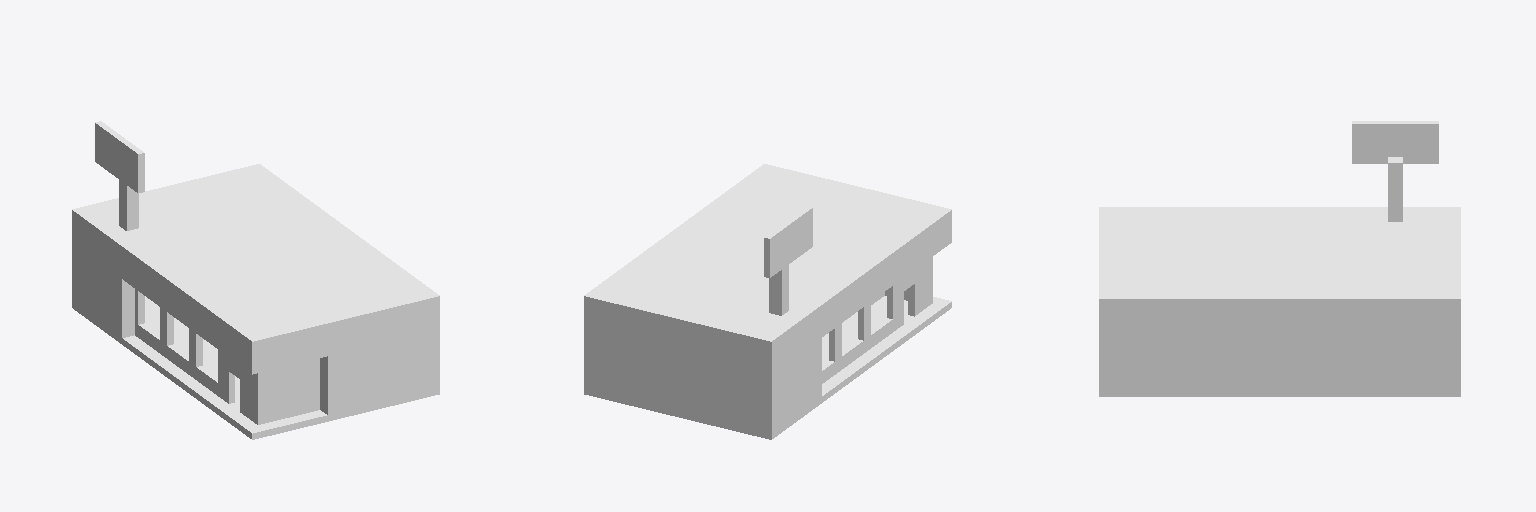
File: konbini.obj
3 renders of one model, left to right at view 1: azimuth 30°, elevation 25°; view 2: azimuth 150°, elevation 25°; view 3: azimuth 270°, elevation 25°, orthographic.
Size of the model in its own units: 30 by 29 by 50.